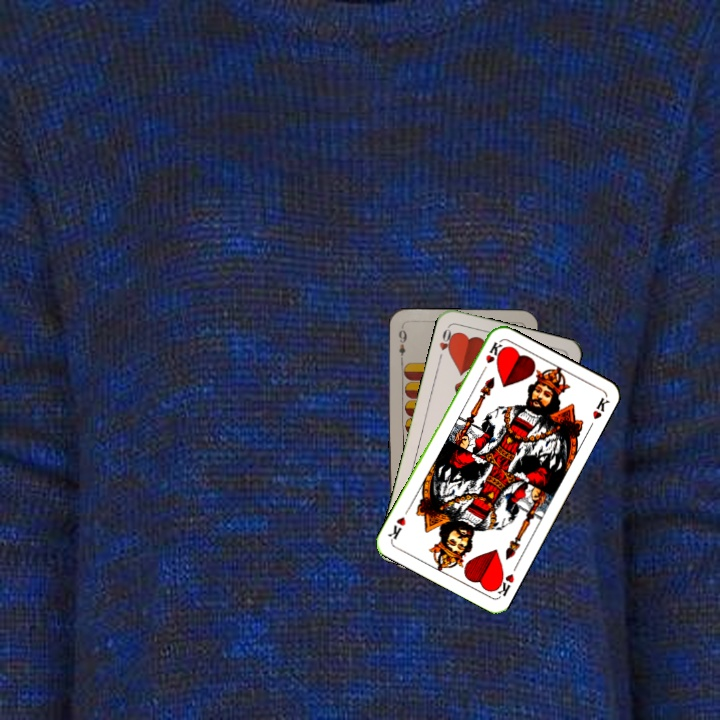E9: (394, 323, 409, 364)
HK: (477, 338, 505, 376), (489, 568, 517, 599)
HO: (435, 323, 457, 363)
